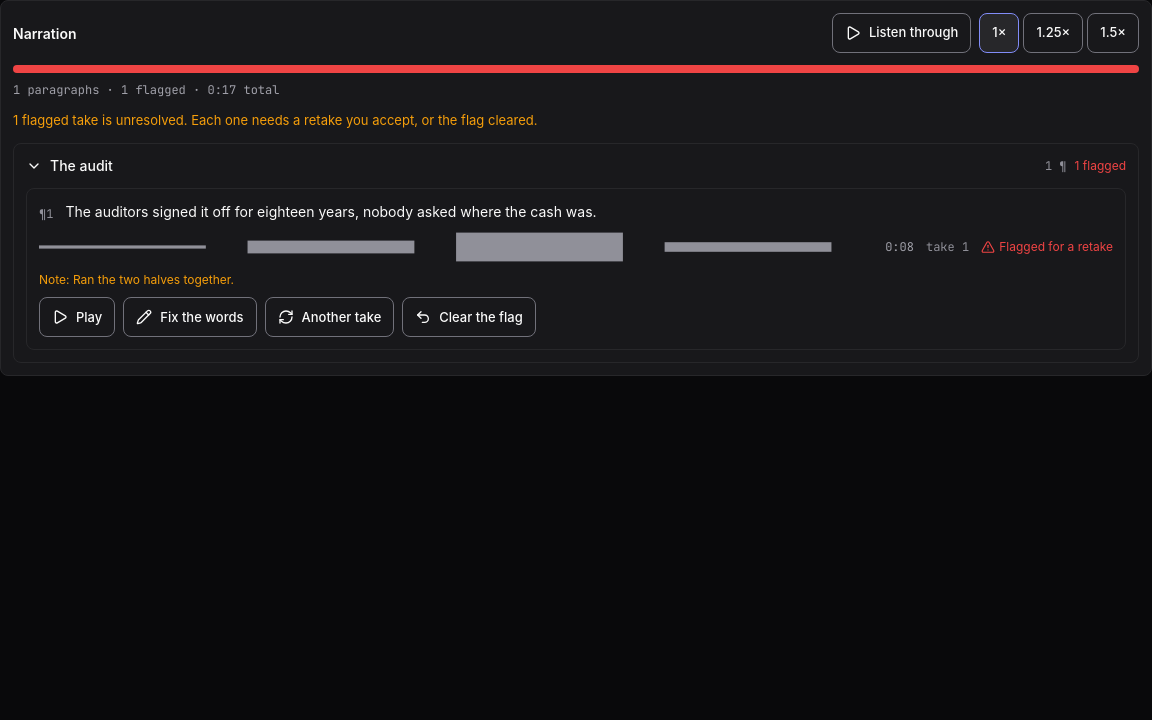
it: VoiceReview › repairing a flagged take › opens the words for editing, prefilled with what was read
This screenshot has width=1152, height=720.
Click the button "Fix the words": click(190, 317) x1=123 y1=297 x2=257 y2=337
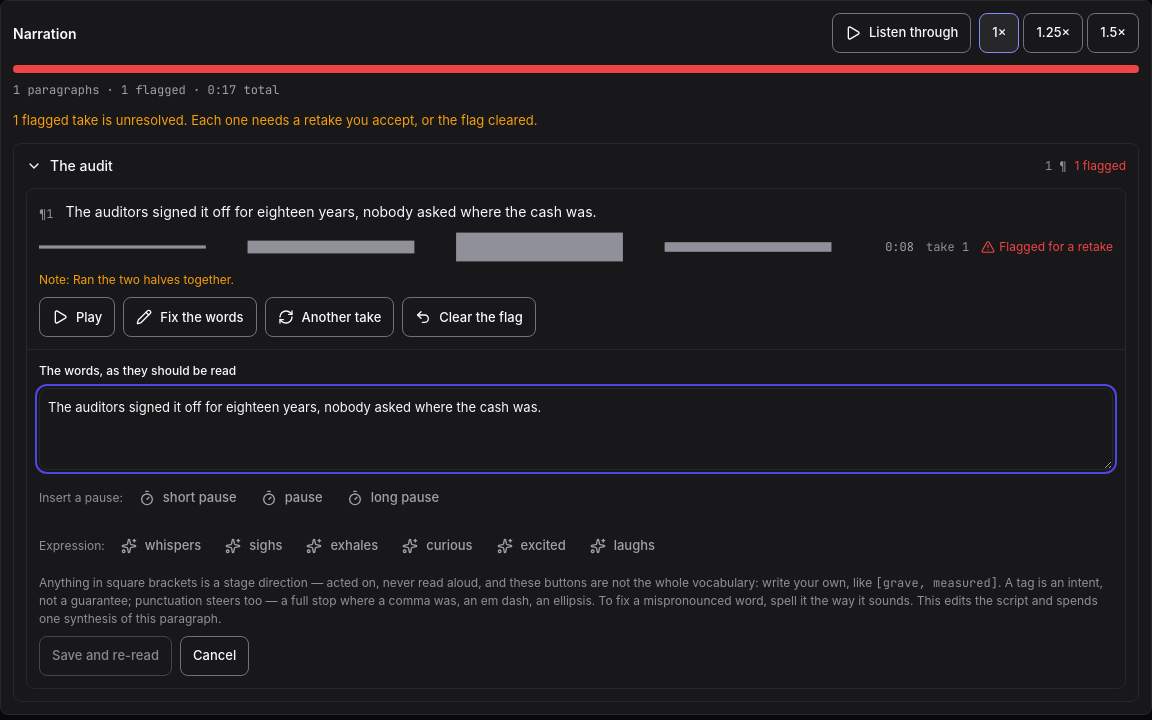
Result: the text box labelled "The words, as they should be read" holds "The auditors signed it off for eighteen years, nobody asked where the cash was." at x1=39 y1=388 x2=1113 y2=470
